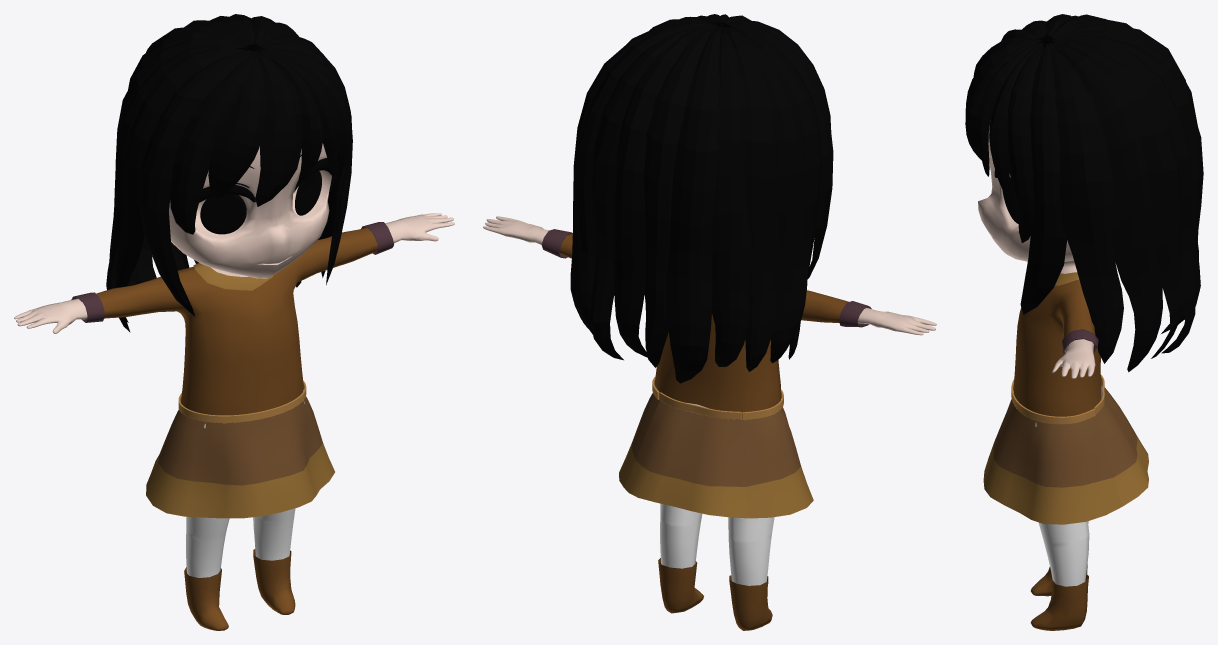
3 renders of one model, left to right at view 1: azimuth 30°, elevation 25°; view 2: azimuth 150°, elevation 25°; view 3: azimuth 270°, elevation 25°, orthographic. The views are drawn at different scales.
Parts seen in each view (by area): view 1: SD; view 2: SD; view 3: SD.
Boxes of the visible parts, x1=… form: SD: x1=14, y1=14, x2=454, y2=630; SD: x1=483, y1=14, x2=936, y2=630; SD: x1=965, y1=14, x2=1203, y2=630.
Size of the model in its own units: 74.83 by 94.39 by 35.18.
